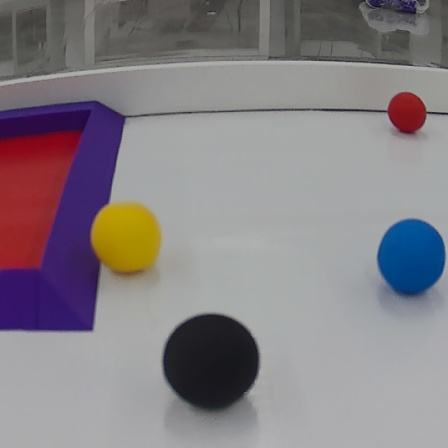black: (162, 314, 264, 416)
blue: (371, 219, 448, 296)
red: (382, 89, 429, 136)
red_aim: (2, 99, 128, 335)
yellow: (91, 204, 162, 275)
